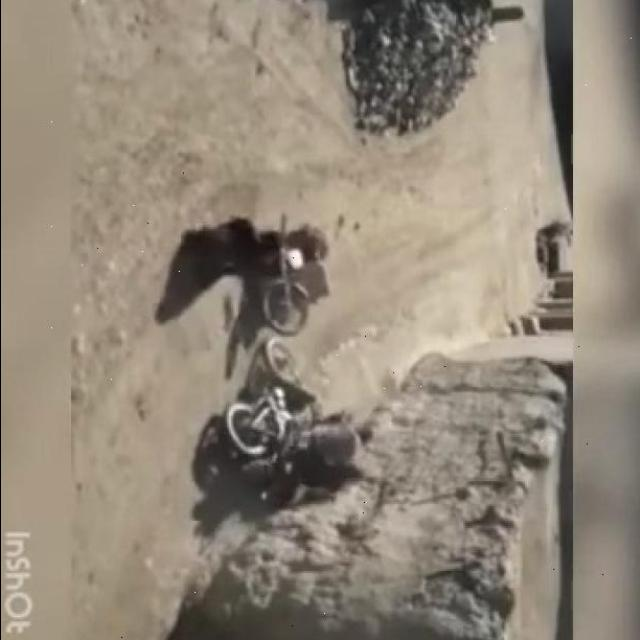accident: (214, 342, 329, 507), (251, 215, 337, 339)
